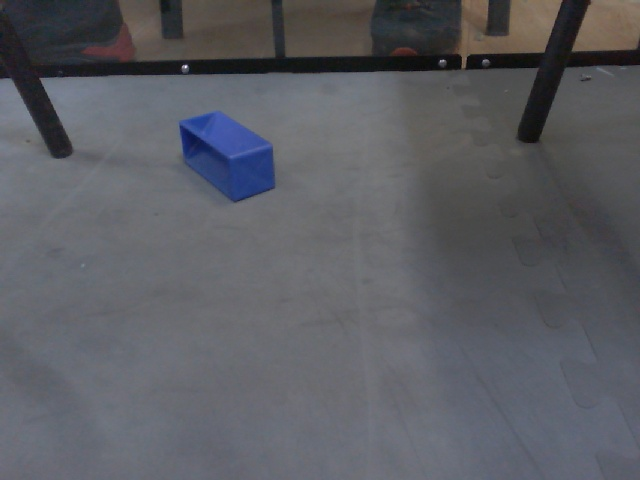BlueSample: (178, 108, 278, 203)
